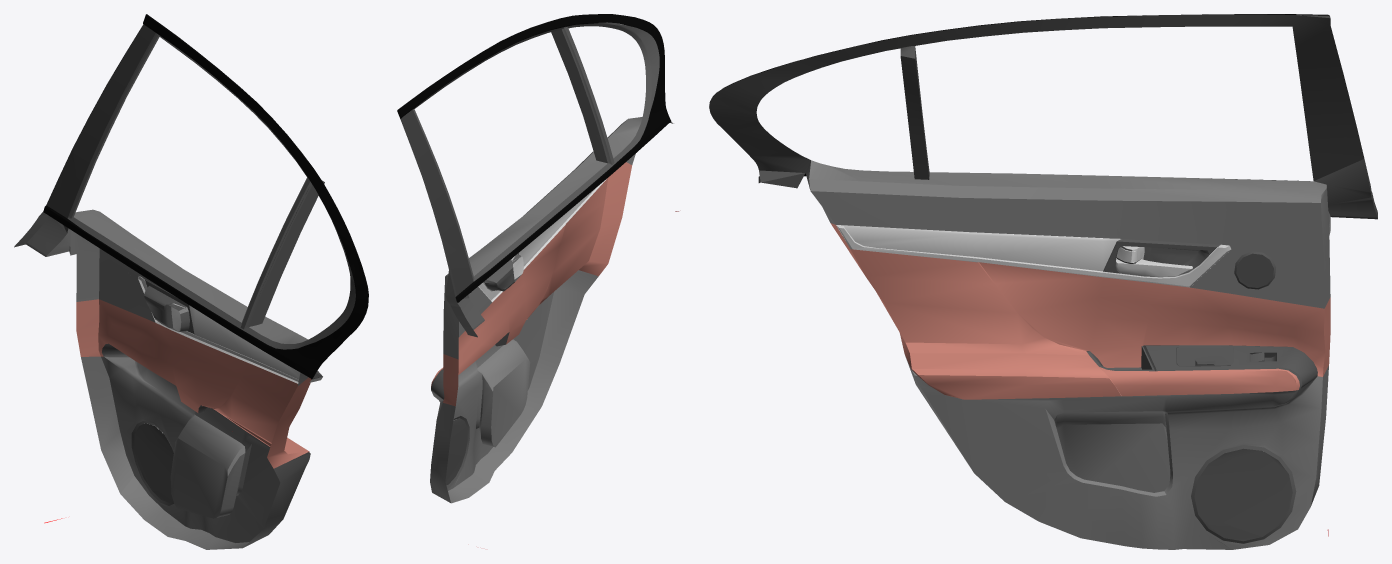
The model's file is back.fbx.
3 renders of one model, left to right at view 1: azimuth 30°, elevation 25°; view 2: azimuth 150°, elevation 25°; view 3: azimuth 270°, elevation 25°, orthographic. The views are drawn at different scales.
Visible parts, largest first — view 1: door_lr_ok_001; view 2: door_lr_ok_001; view 3: door_lr_ok_001.
Boxes of the visible parts, box(x1,y1,x2,y2) form: door_lr_ok_001: box(14, 14, 368, 549); door_lr_ok_001: box(397, 14, 678, 503); door_lr_ok_001: box(709, 14, 1377, 549).
Bounding box in the file's own units: 36.85 × 142 × 150.
